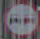No overtake: (4, 1, 39, 34)
